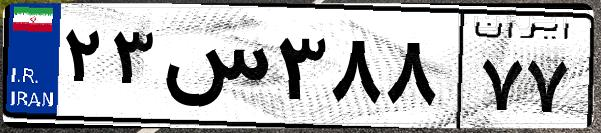2: (57, 26, 110, 100)
3: (270, 28, 330, 110), (110, 28, 158, 98)
7: (475, 38, 525, 113), (525, 38, 570, 115)
8: (385, 28, 445, 110), (330, 28, 385, 110)
س: (158, 20, 270, 120)
